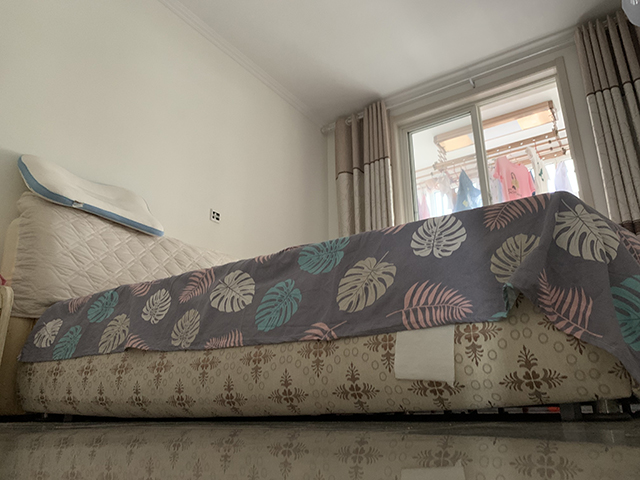bed: (1, 153, 640, 428)
